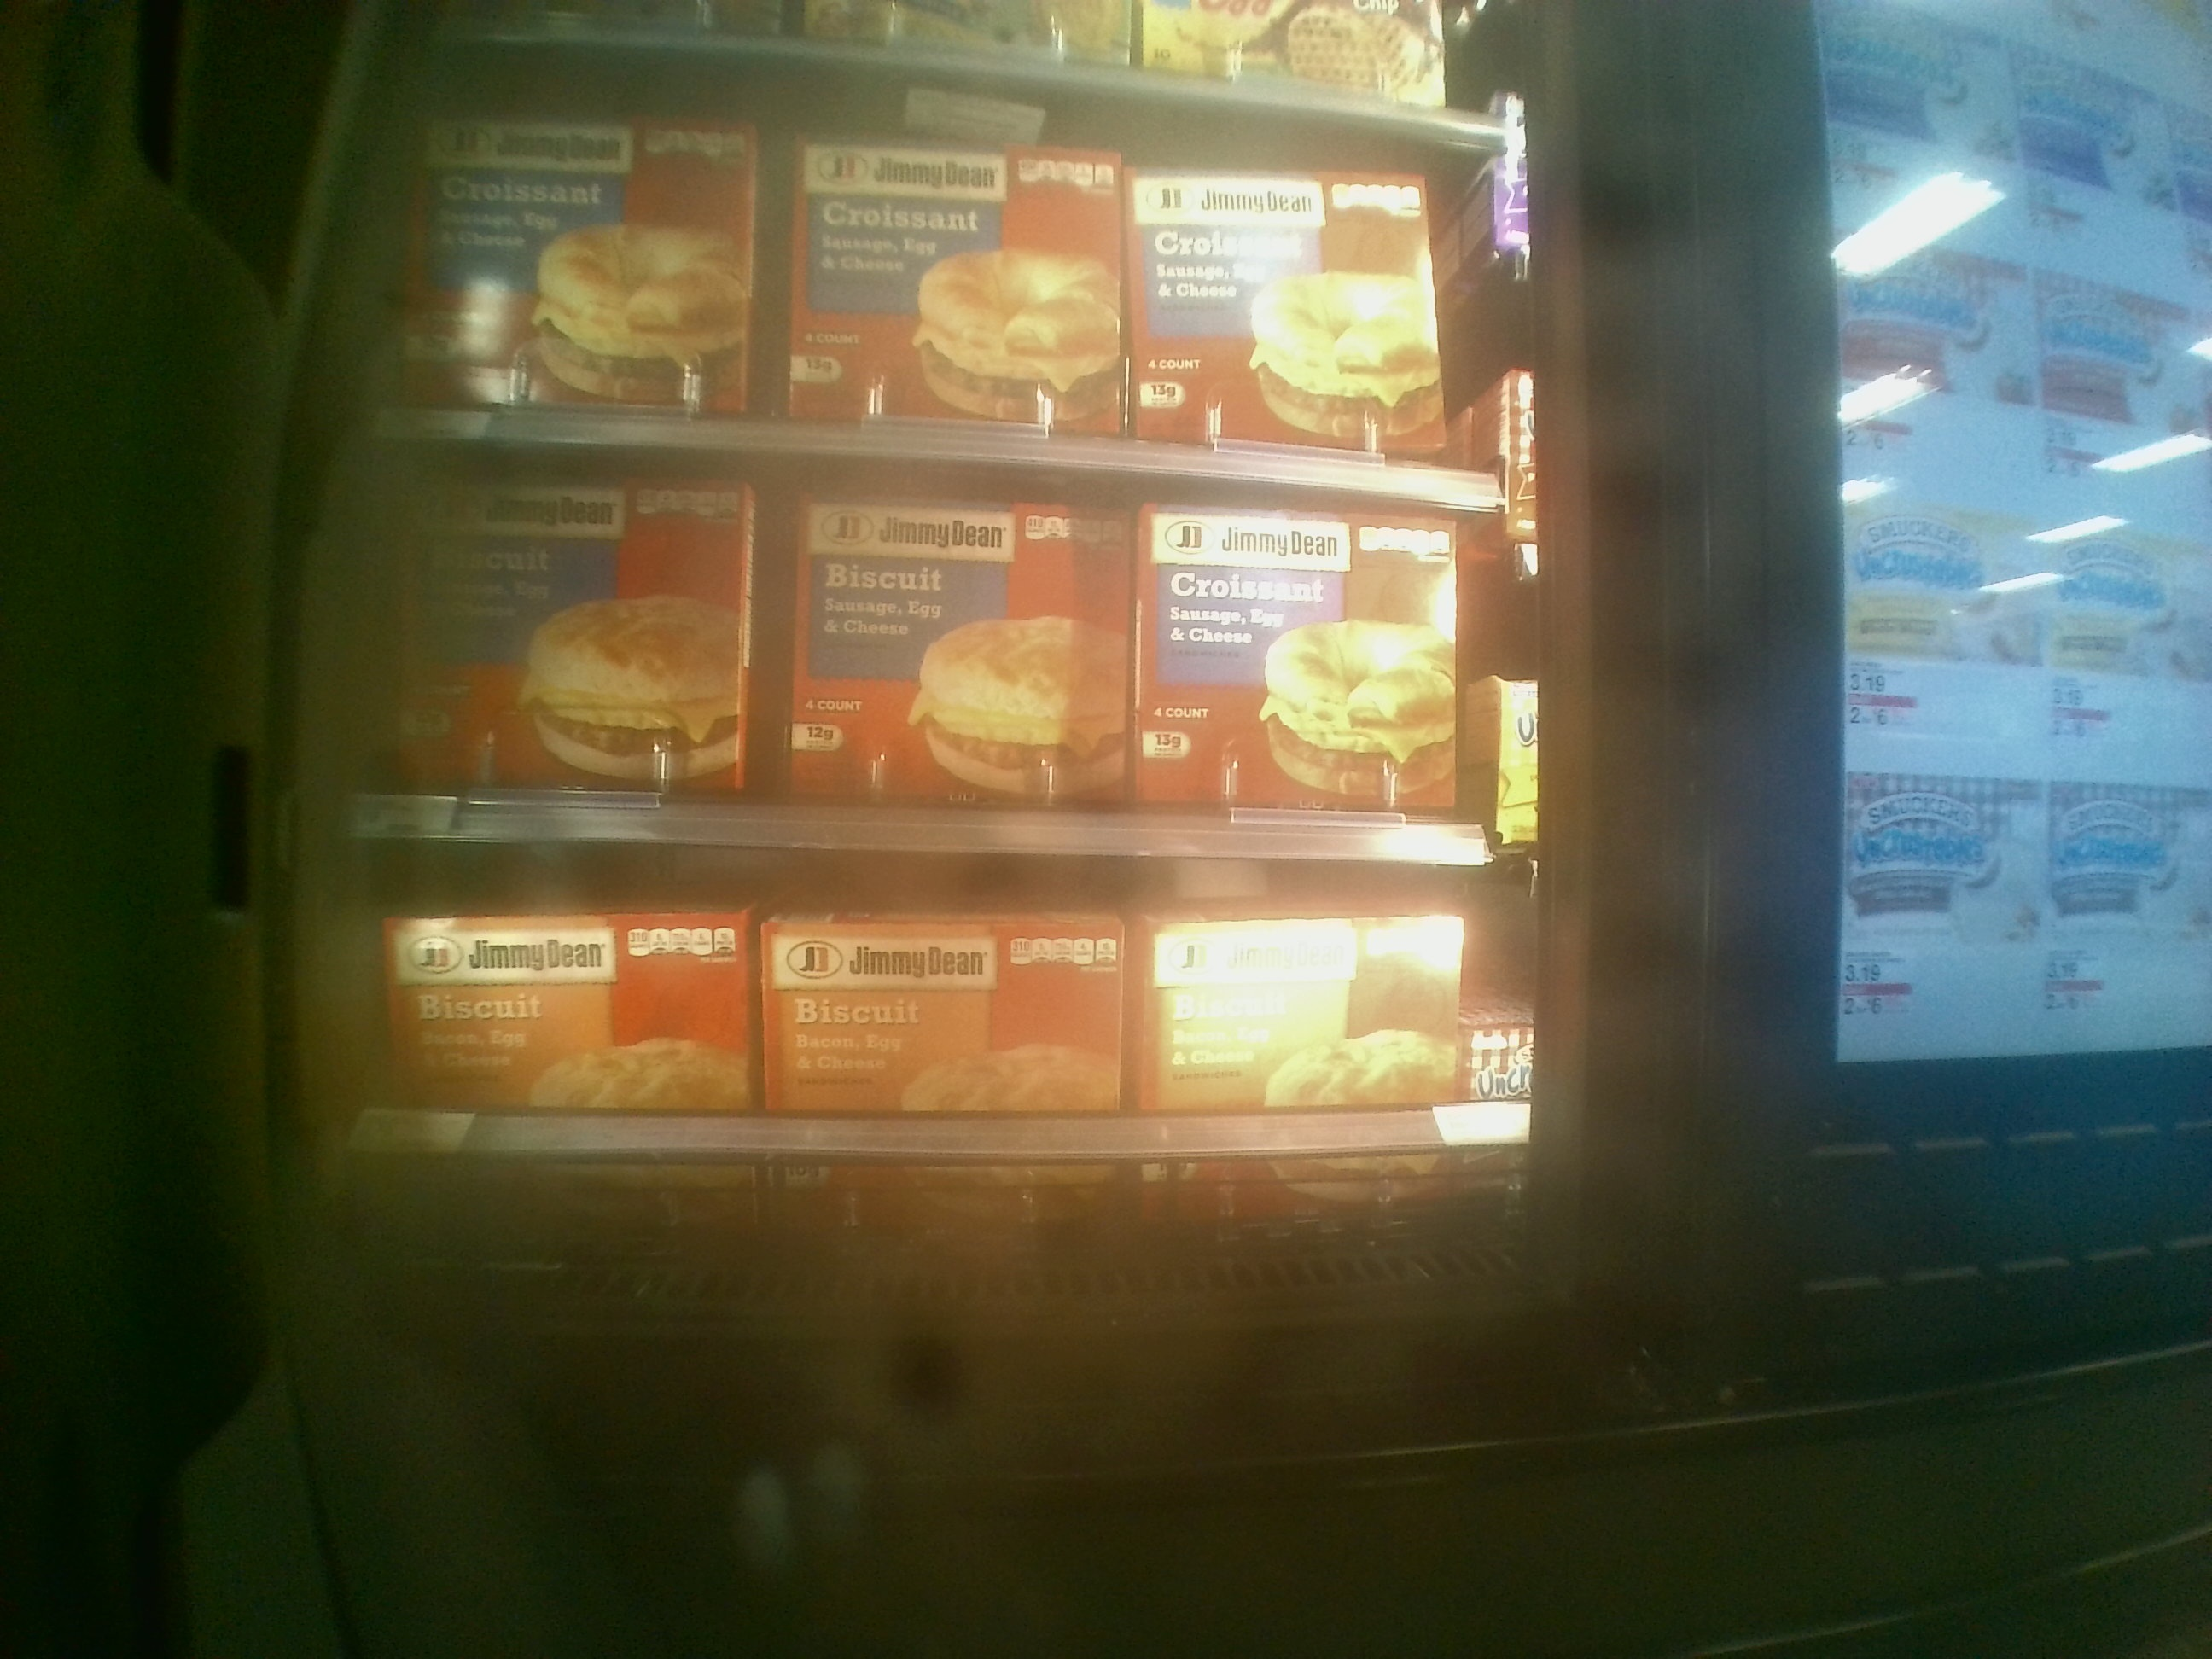shelf: (354, 849, 1533, 1279), (354, 432, 1508, 854)
